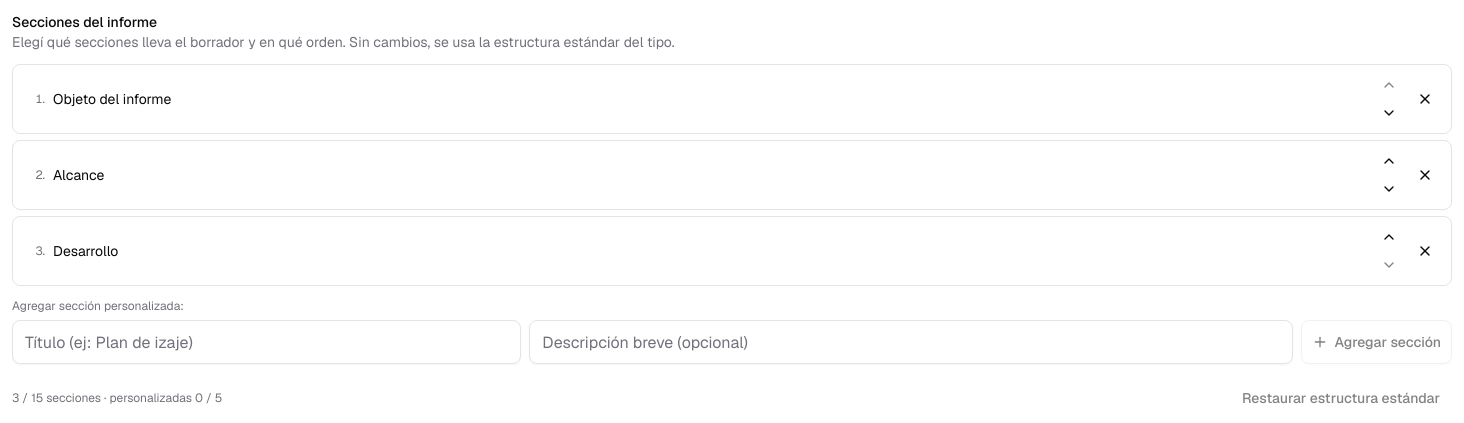
it: SeccionesConfigField › quitar una seccion la ofrece como disponible; la ultima no se puede quitar (min 1)
What coordinates should you click on to do the following:
click the button named "Quitar sección «Alcance»"
I would click on:
 (1425, 175)
Its box is x1=1411 y1=161 x2=1439 y2=189.
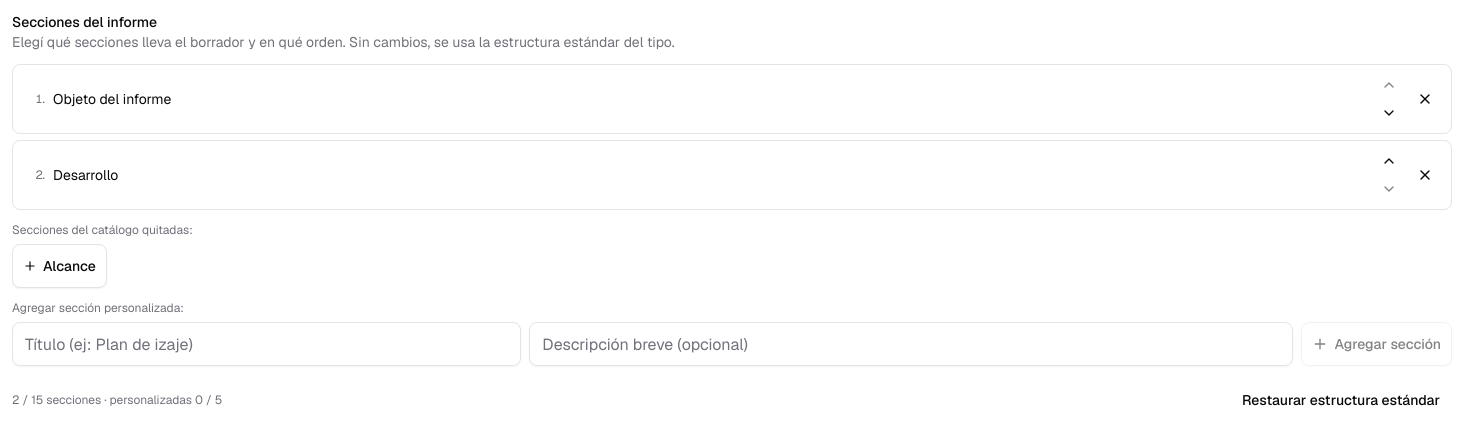
expect the button "Alcance" is shown: met, box x1=12 y1=244 x2=107 y2=288
What coordinates should you click on to do the following:
click the button named "Quitar sección «Desarrollo»"
I would click on:
 (1425, 175)
Its box is x1=1411 y1=161 x2=1439 y2=189.
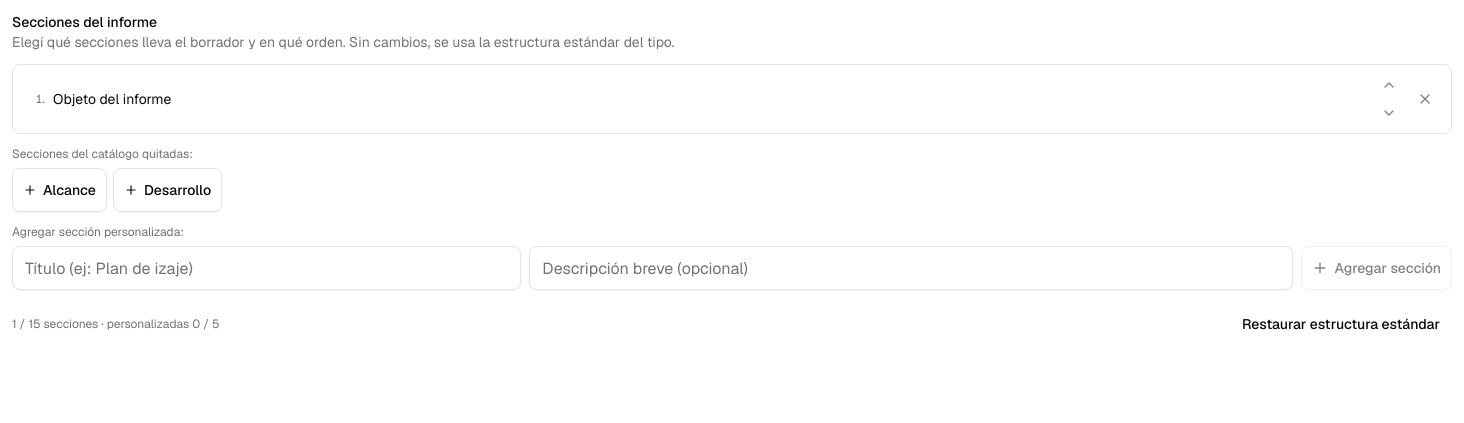
expect the button named "Quitar sección «Objeto del informe»" is disabled: met, box x1=1411 y1=85 x2=1439 y2=113
